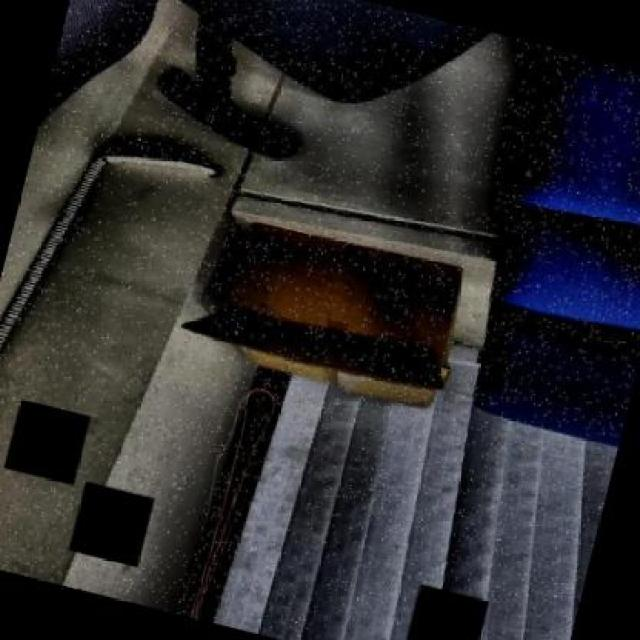box: (165, 184, 504, 430)
